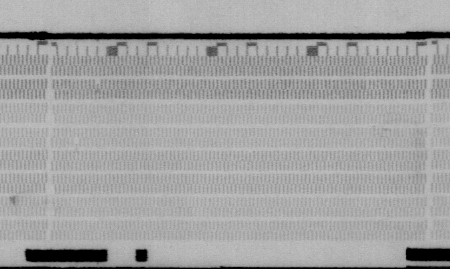Oblique printing: (92, 76, 103, 94), (71, 137, 82, 152)
